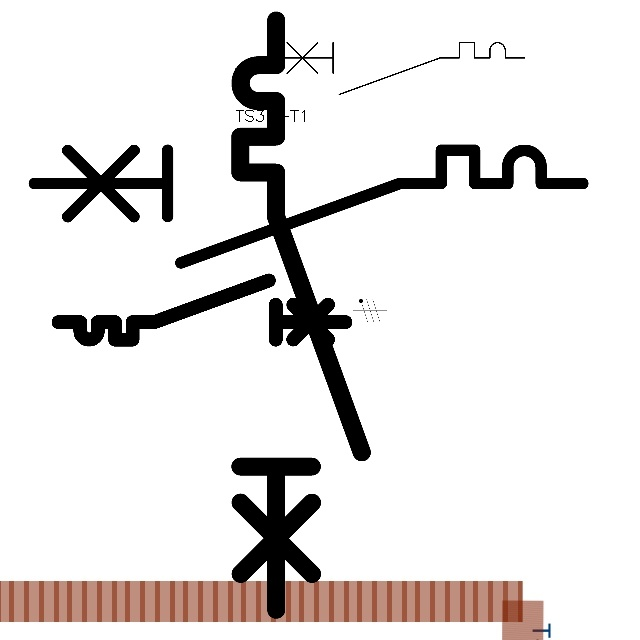interruptor_termomagnetico: (225, 5, 377, 625), (20, 136, 597, 277), (51, 273, 352, 347), (265, 36, 531, 101)
